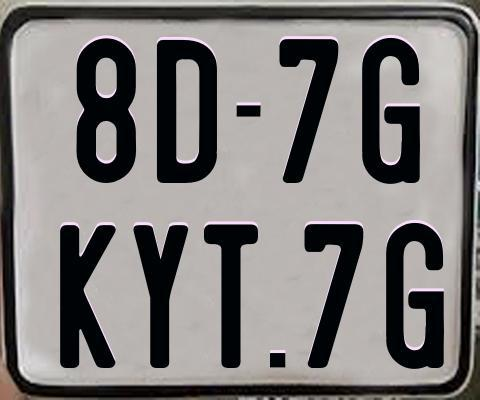7: (303, 221, 368, 370), (277, 38, 338, 183)
8: (76, 35, 141, 183)
D: (155, 38, 216, 187)
G: (361, 35, 423, 185), (384, 221, 444, 369)
K: (57, 224, 118, 369)
T: (203, 222, 258, 372)
Y: (130, 224, 189, 372)
